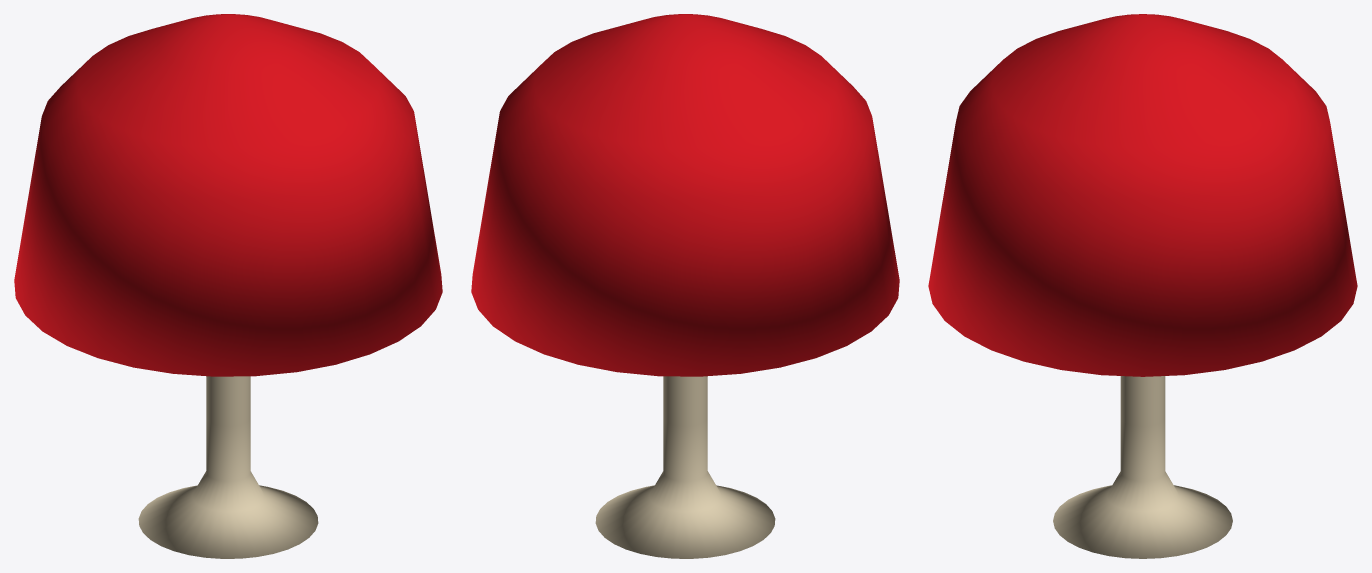
File: champi12.fbx
3 renders of one model, left to right at view 1: azimuth 30°, elevation 25°; view 2: azimuth 150°, elevation 25°; view 3: azimuth 270°, elevation 25°, orthographic.
Visible parts, largest first — view 1: Cylinder; view 2: Cylinder; view 3: Cylinder.
Part boxes in pixels (x1=…): Cylinder: x1=14, y1=14, x2=442, y2=558; Cylinder: x1=471, y1=14, x2=899, y2=558; Cylinder: x1=928, y1=14, x2=1357, y2=558.
Bounding box in the file's own units: 95.38 × 124 × 95.38.
